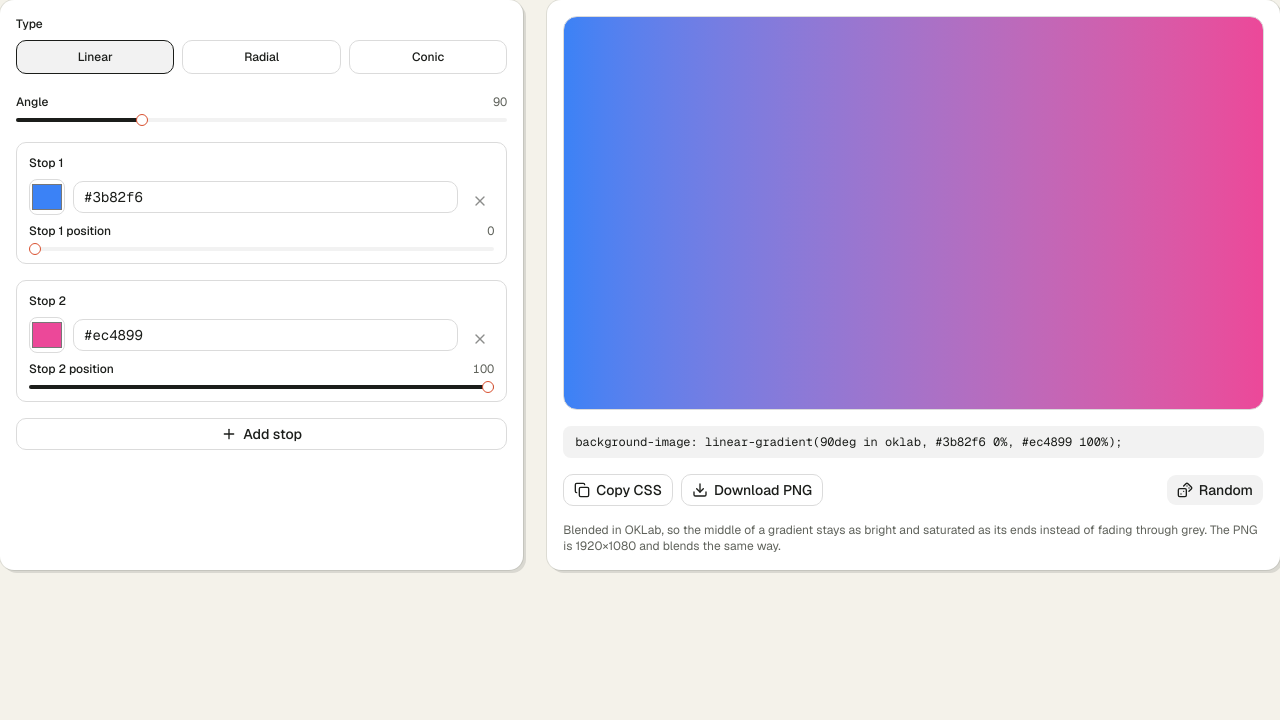
Test: GradientGeneratorTool › hides the angle for a radial gradient
Click the button "Radial". click: (262, 57)
box: [182, 40, 341, 74]
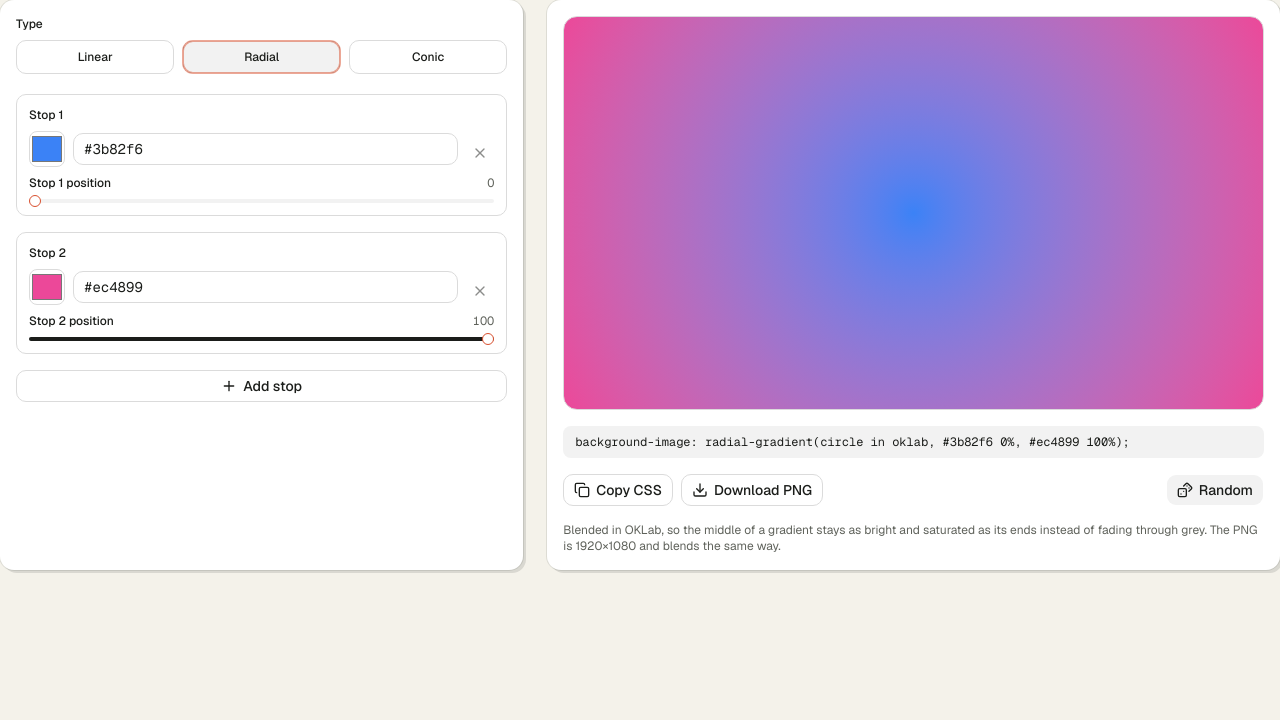
Now the text "background-image:" shows "radial-gradient(circle in oklab", box [705, 434, 1122, 450]
Now the text "Angle" is gone
